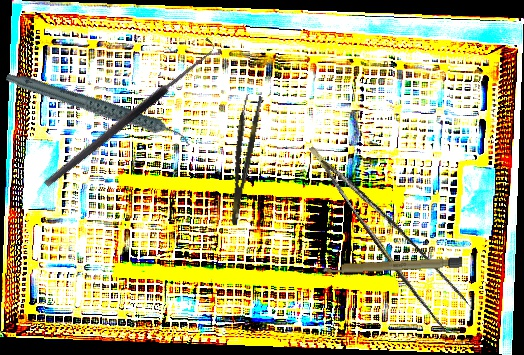Handpiece: (4, 38, 193, 182)
Hook Surgical: (36, 35, 220, 190)
Scalpel Handle: (321, 256, 463, 275)
Tissue Forceps: (308, 124, 476, 338), (219, 93, 264, 226)
